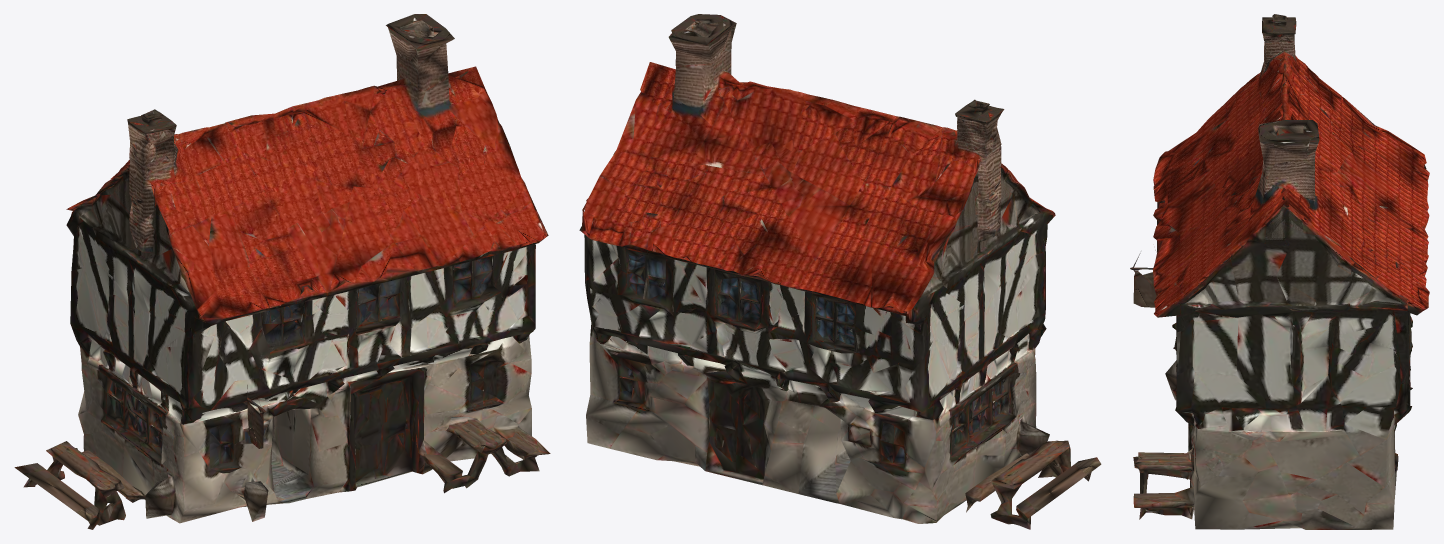
Rendered from wirtshaus.glb.
The picture shows the model from 3 angles, left to right: view 1: azimuth 30°, elevation 25°; view 2: azimuth 150°, elevation 25°; view 3: azimuth 270°, elevation 25°; orthographic projection. The views are drawn at different scales.
Size of the model in its own units: 1.9 by 1.67 by 1.22.
Materials: 1 (1 with a texture image).
